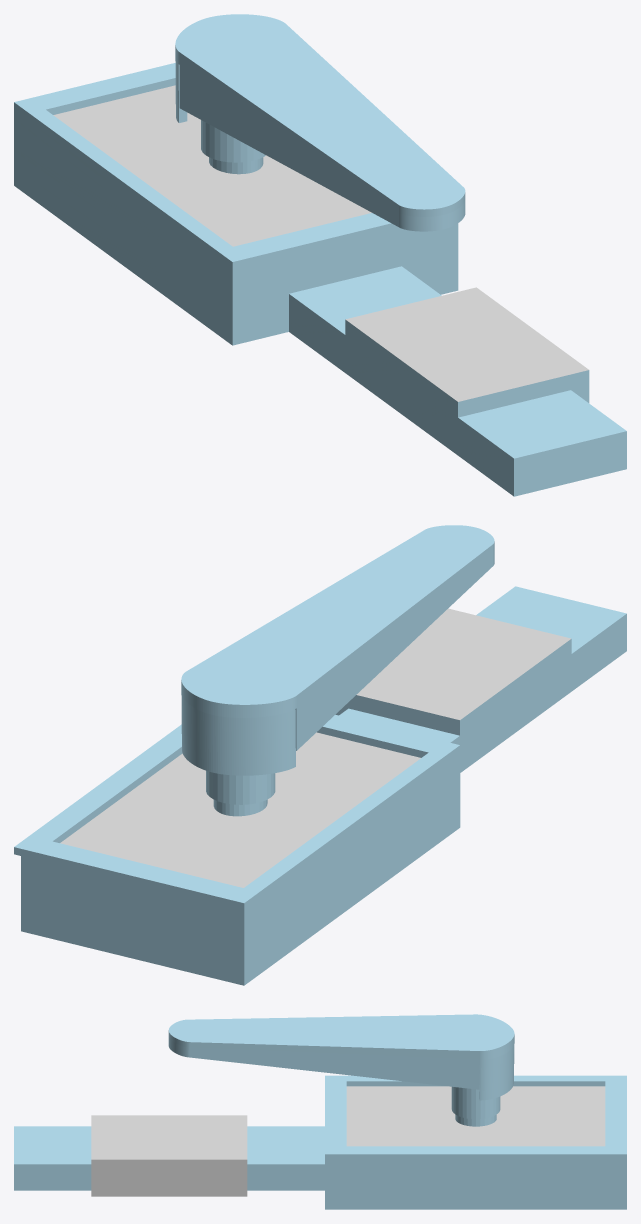
File: crank.dae
3 renders of one model, top to bottom at view 1: azimuth 30°, elevation 25°; view 2: azimuth 150°, elevation 25°; view 3: azimuth 270°, elevation 25°, orthographic. The views are drawn at different scales.
Parts seen in each view (by area): view 1: Cube, Cube.006; view 2: Cube, Cube.006; view 3: Cube, Cube.006.
Boxes of the visible parts, x1,y1,x2,y2 form: Cube: [14, 63, 626, 496]; Cube.006: [175, 14, 465, 231]; Cube: [14, 586, 626, 985]; Cube.006: [181, 525, 494, 816]; Cube: [14, 1075, 626, 1209]; Cube.006: [168, 1014, 514, 1126].
Size of the model in its own units: 1.93 by 6.38 by 1.59.
